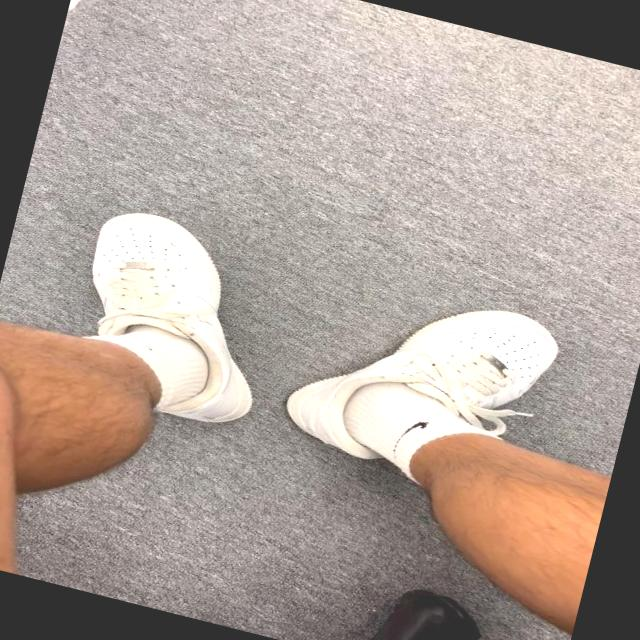nike_original_airforce: (274, 259, 574, 510), (49, 204, 292, 447)
